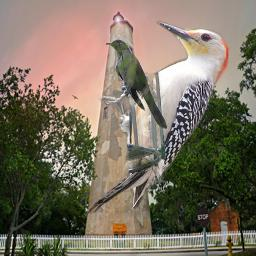Cuckoo: (106, 39, 170, 130)
Woodpecker: (84, 18, 233, 219)
